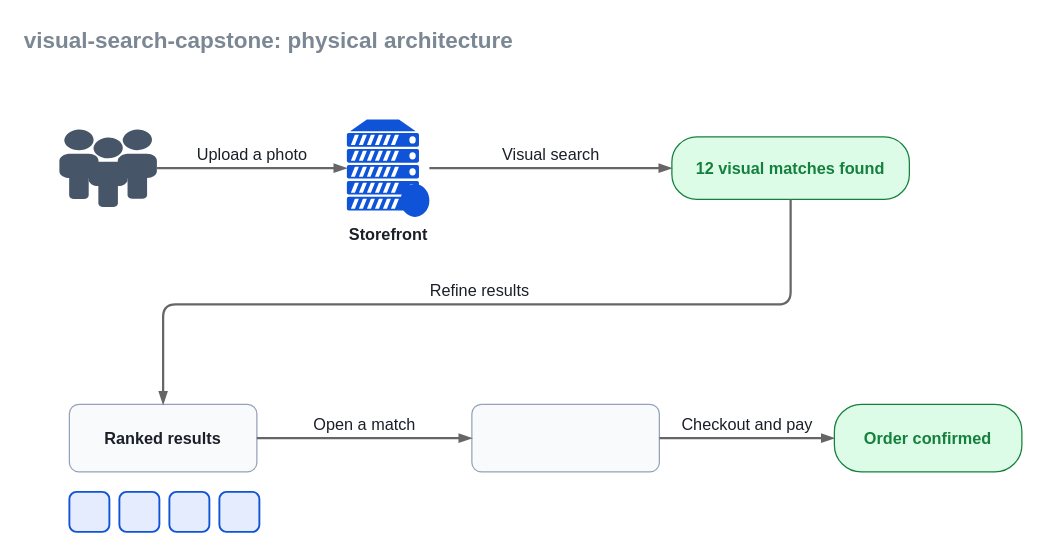
The diagram is 1044 pixels wide and 554 high, and some of its shapes have lost their labels. Here are the shapes that lost their labels. From the top down, the centre of each, then its label:
point 107,167: Shopper
point 565,437: Product page
